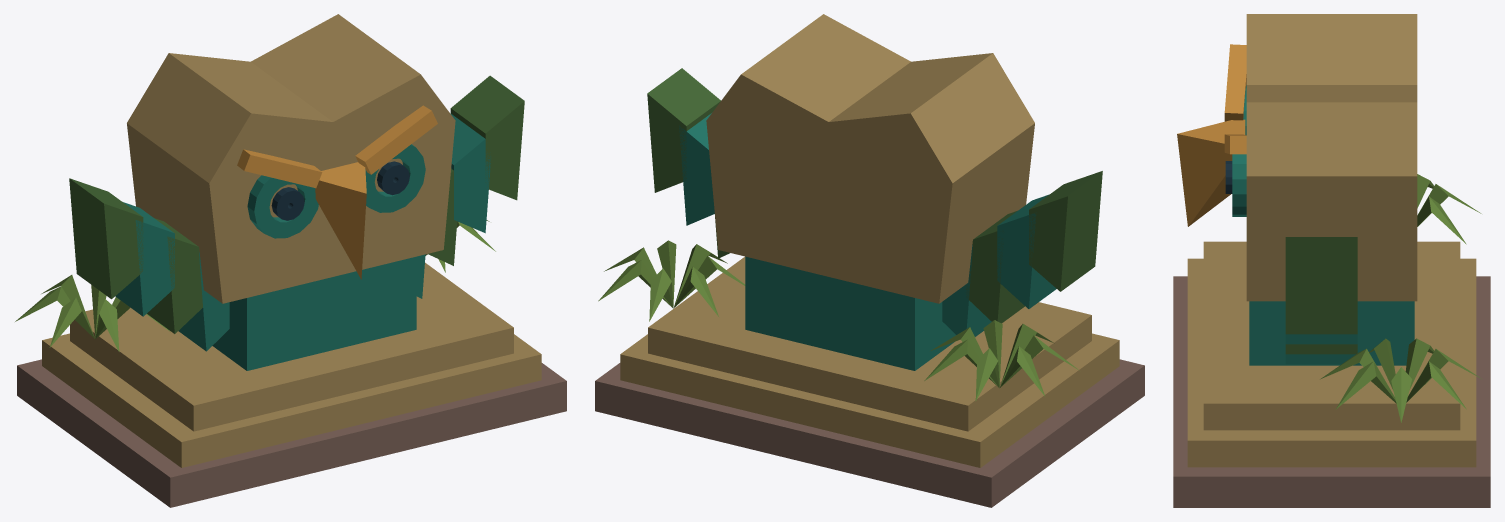
The model's file is bird_shrine.glb.
The picture shows the model from 3 angles, left to right: view 1: azimuth 30°, elevation 25°; view 2: azimuth 150°, elevation 25°; view 3: azimuth 270°, elevation 25°; orthographic projection. The views are drawn at different scales.
Parts seen in each view (by area): view 1: bird_shrine; view 2: bird_shrine; view 3: bird_shrine.
Boxes of the visible parts, x1,y1,x2,y2 form: bird_shrine: (15,14,566,507); bird_shrine: (595,14,1144,507); bird_shrine: (1173,14,1490,507).
Bounding box in the file's own units: 12.08 × 8.53 × 6.97.
